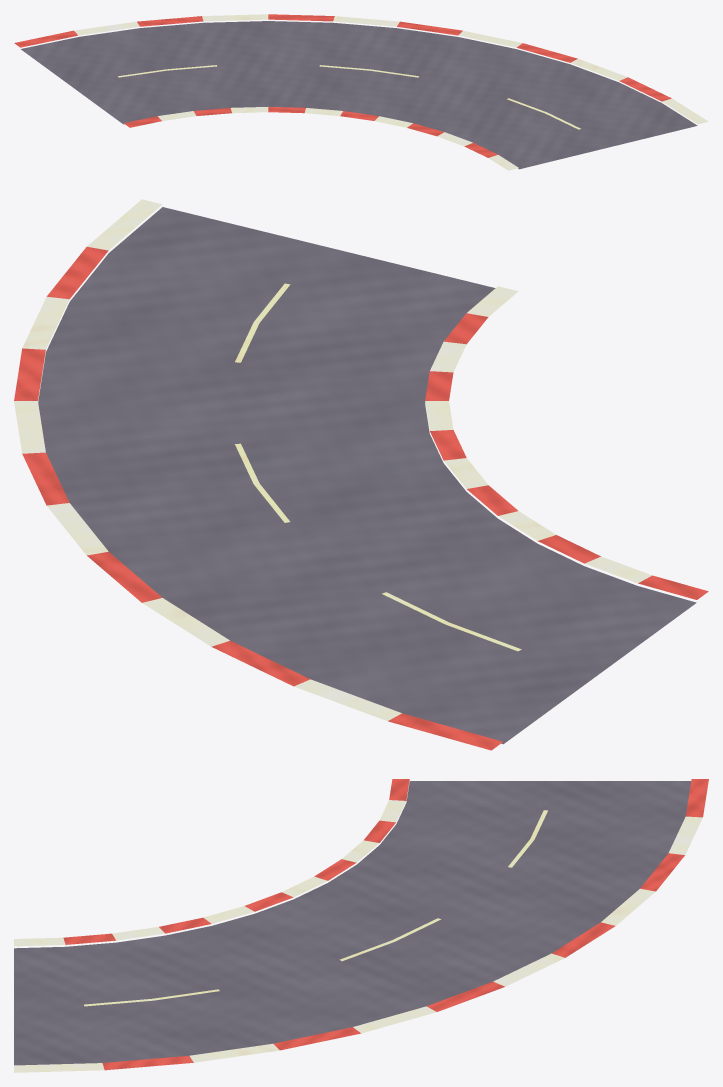
Rendered from race_road_curve.glb.
The picture shows the model from 3 angles, top to bottom: view 1: azimuth 30°, elevation 25°; view 2: azimuth 150°, elevation 25°; view 3: azimuth 270°, elevation 25°; orthographic projection. The views are drawn at different scales.
Visible parts, largest first — view 1: Body; view 2: Body; view 3: Body.
Part boxes in pixels (left/top/right/bottom): Body: left=14, top=14, right=708, bottom=170; Body: left=14, top=199, right=708, bottom=750; Body: left=14, top=779, right=708, bottom=1072.
Size of the model in its own units: 10.36 by 0.03 by 10.36.
1 material, 1 textured.
